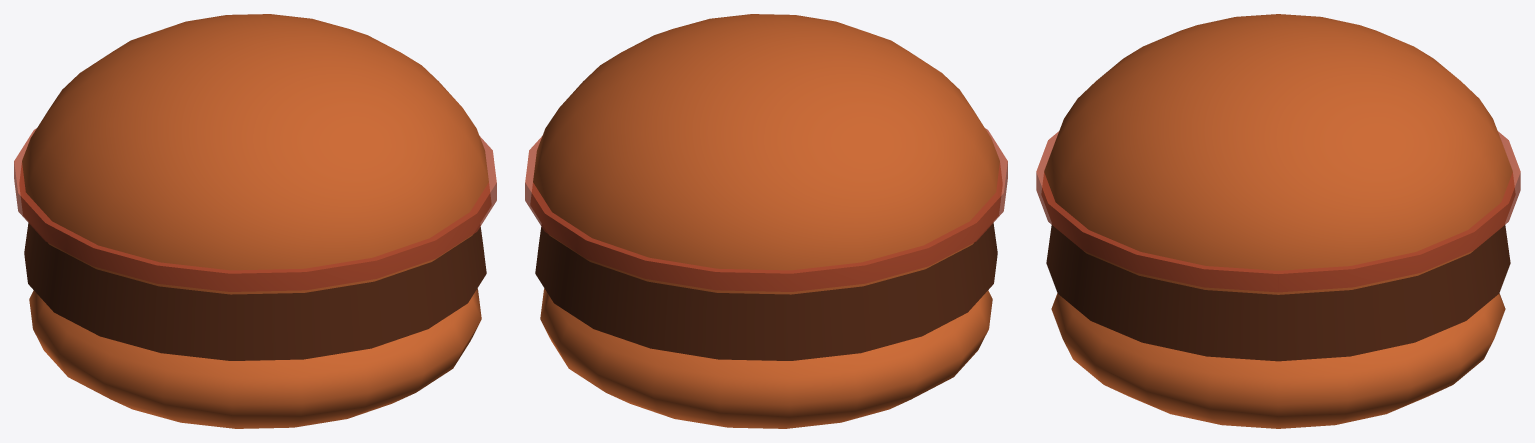
The model's file is islak-hamburger.glb.
3 views of the same model, side by side, from view 1: azimuth 30°, elevation 25°; view 2: azimuth 150°, elevation 25°; view 3: azimuth 270°, elevation 25° (orthographic).
Visible parts, largest first — view 1: islak-hamburger; view 2: islak-hamburger; view 3: islak-hamburger.
Part boxes in pixels (<box>): islak-hamburger: <box>14,14,496,428</box>; islak-hamburger: <box>525,14,1007,428</box>; islak-hamburger: <box>1036,14,1520,428</box>.
Bounding box in the file's own units: 0.096 × 0.0736 × 0.096.
